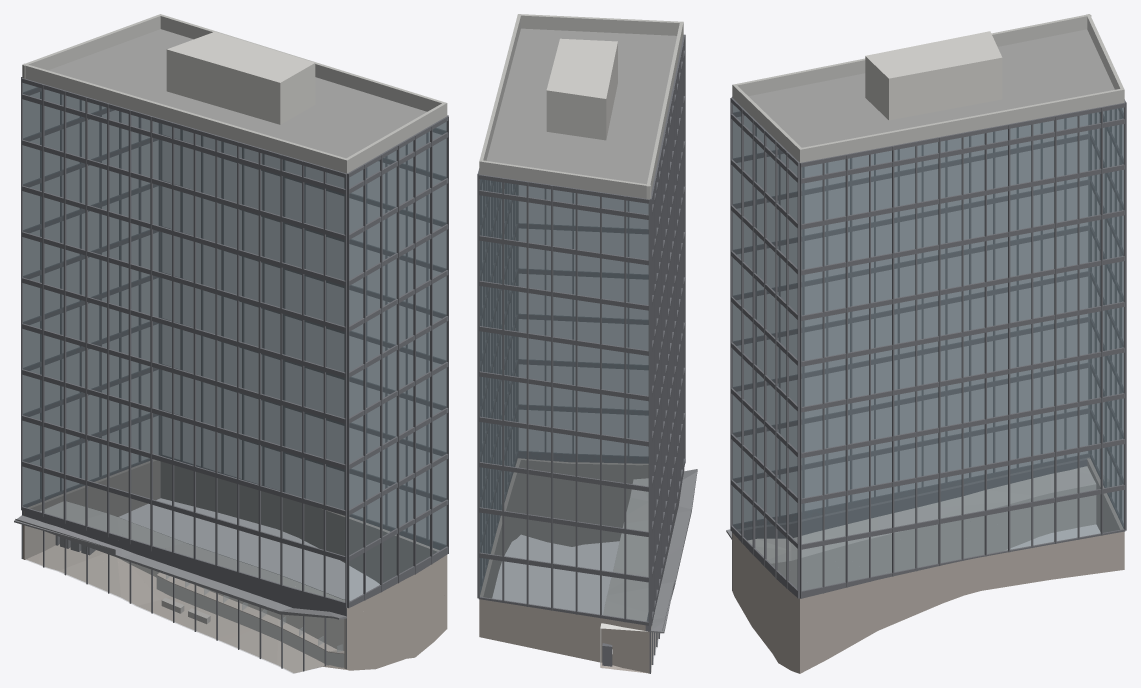
The model's file is d22-mufg-trust.glb.
3 renders of one model, left to right at view 1: azimuth 30°, elevation 25°; view 2: azimuth 150°, elevation 25°; view 3: azimuth 270°, elevation 25°, orthographic.
Visible parts, largest first — view 1: INFERRED_body.001, INFERRED_ground.001; view 2: INFERRED_body.001, INFERRED_ground.001; view 3: INFERRED_body.001, INFERRED_ground.001.
Part boxes in pixels (x1,y1,x2,y2): INFERRED_body.001: (14,14,448,673); INFERRED_ground.001: (25,501,349,673); INFERRED_body.001: (477,14,697,673); INFERRED_ground.001: (600,478,658,667); INFERRED_body.001: (726,14,1126,673); INFERRED_ground.001: (748,466,1108,590).
Size of the model in its own units: 23.34 by 43.08 by 27.77.
5 materials, 1 textured.
